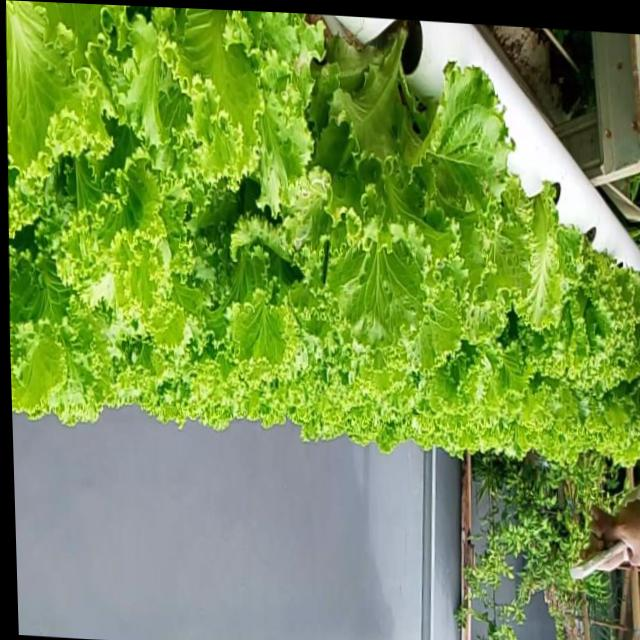Mature: (6, 0, 640, 457), (290, 37, 482, 331), (503, 197, 640, 413)
